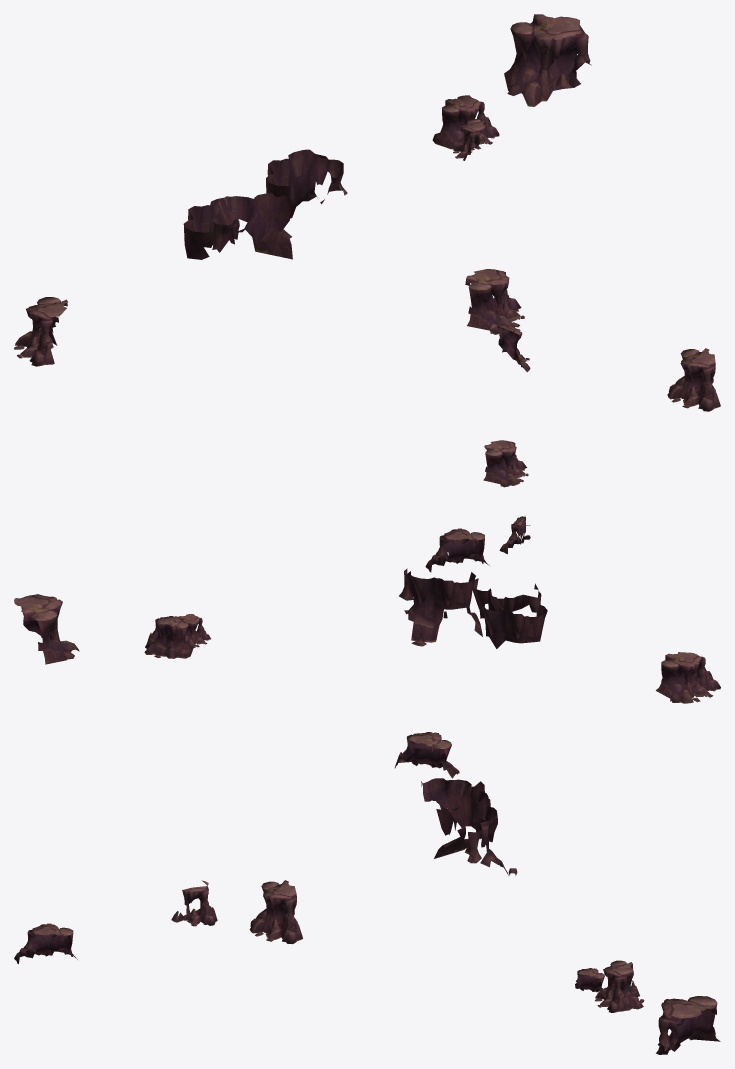
Rendered from area11_shiqiang_01.FBX.
The picture shows the model from 3 angles, top to bottom: view 1: azimuth 30°, elevation 25°; view 2: azimuth 150°, elevation 25°; view 3: azimuth 270°, elevation 25°; orthographic projection. The views are drawn at different scales.
Parts seen in each view (by area): view 1: area11_shiqiang_01; view 2: area11_shiqiang_01; view 3: area11_shiqiang_01.
Part boxes in pixels (bbox=[...]): area11_shiqiang_01: bbox=[14, 14, 720, 411]; area11_shiqiang_01: bbox=[14, 440, 720, 703]; area11_shiqiang_01: bbox=[14, 732, 720, 1054].
Size of the model in its own units: 11656 by 1625 by 11306.
